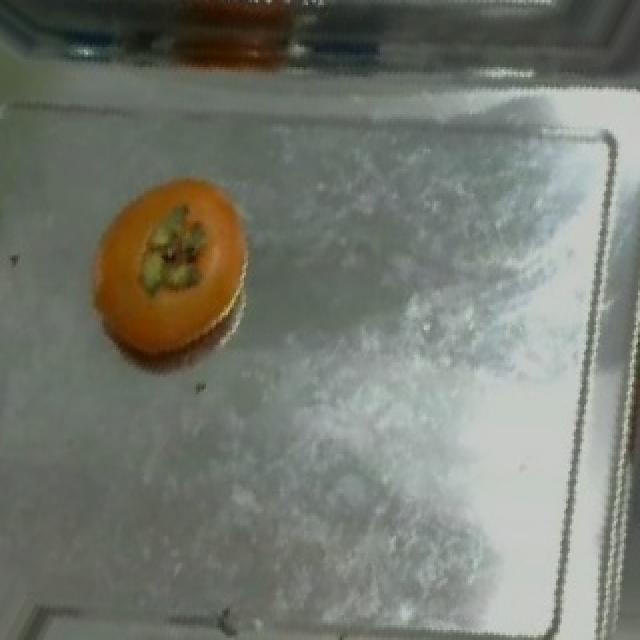Fruit: (68, 151, 270, 382)
